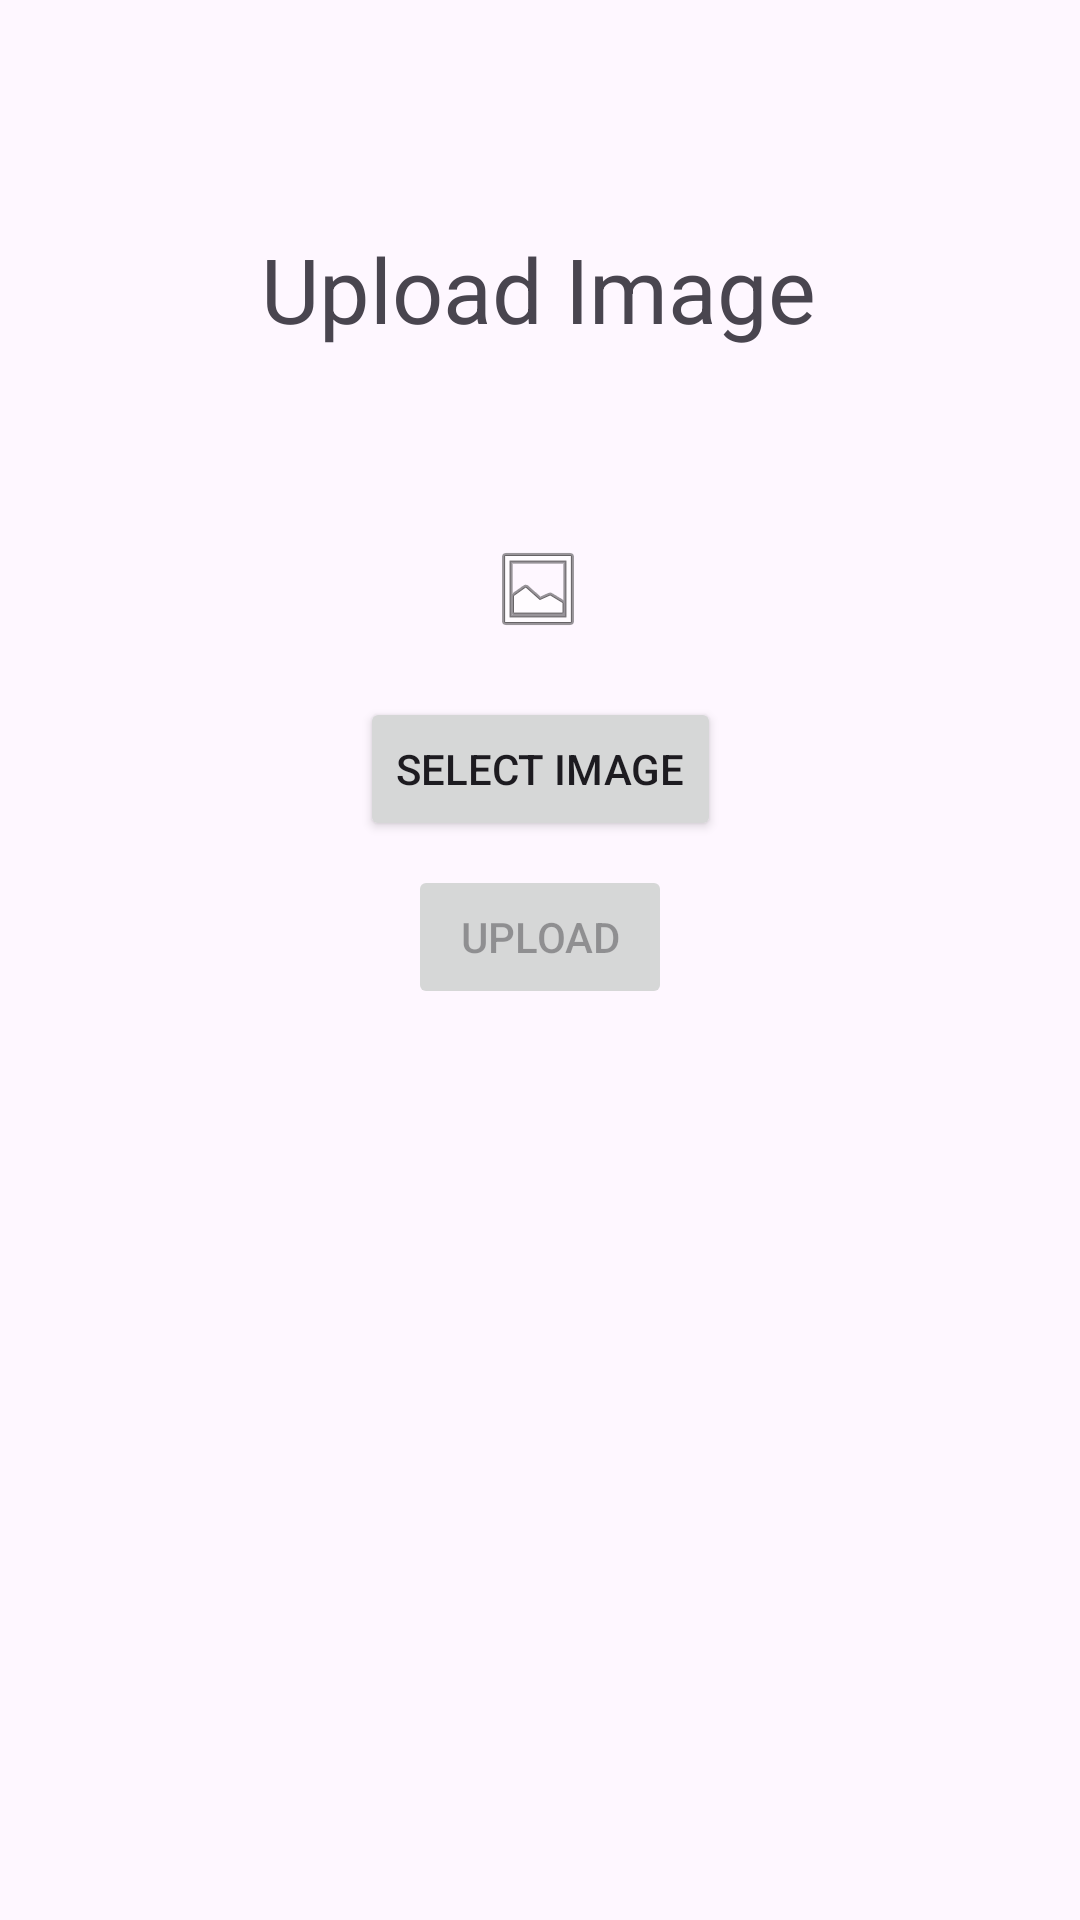

Icon bounding boxes for this 1080px x 1920px phone screenshot, format rect(x1, y1, x2, y2):
gallery: rect(502, 553, 574, 625)
